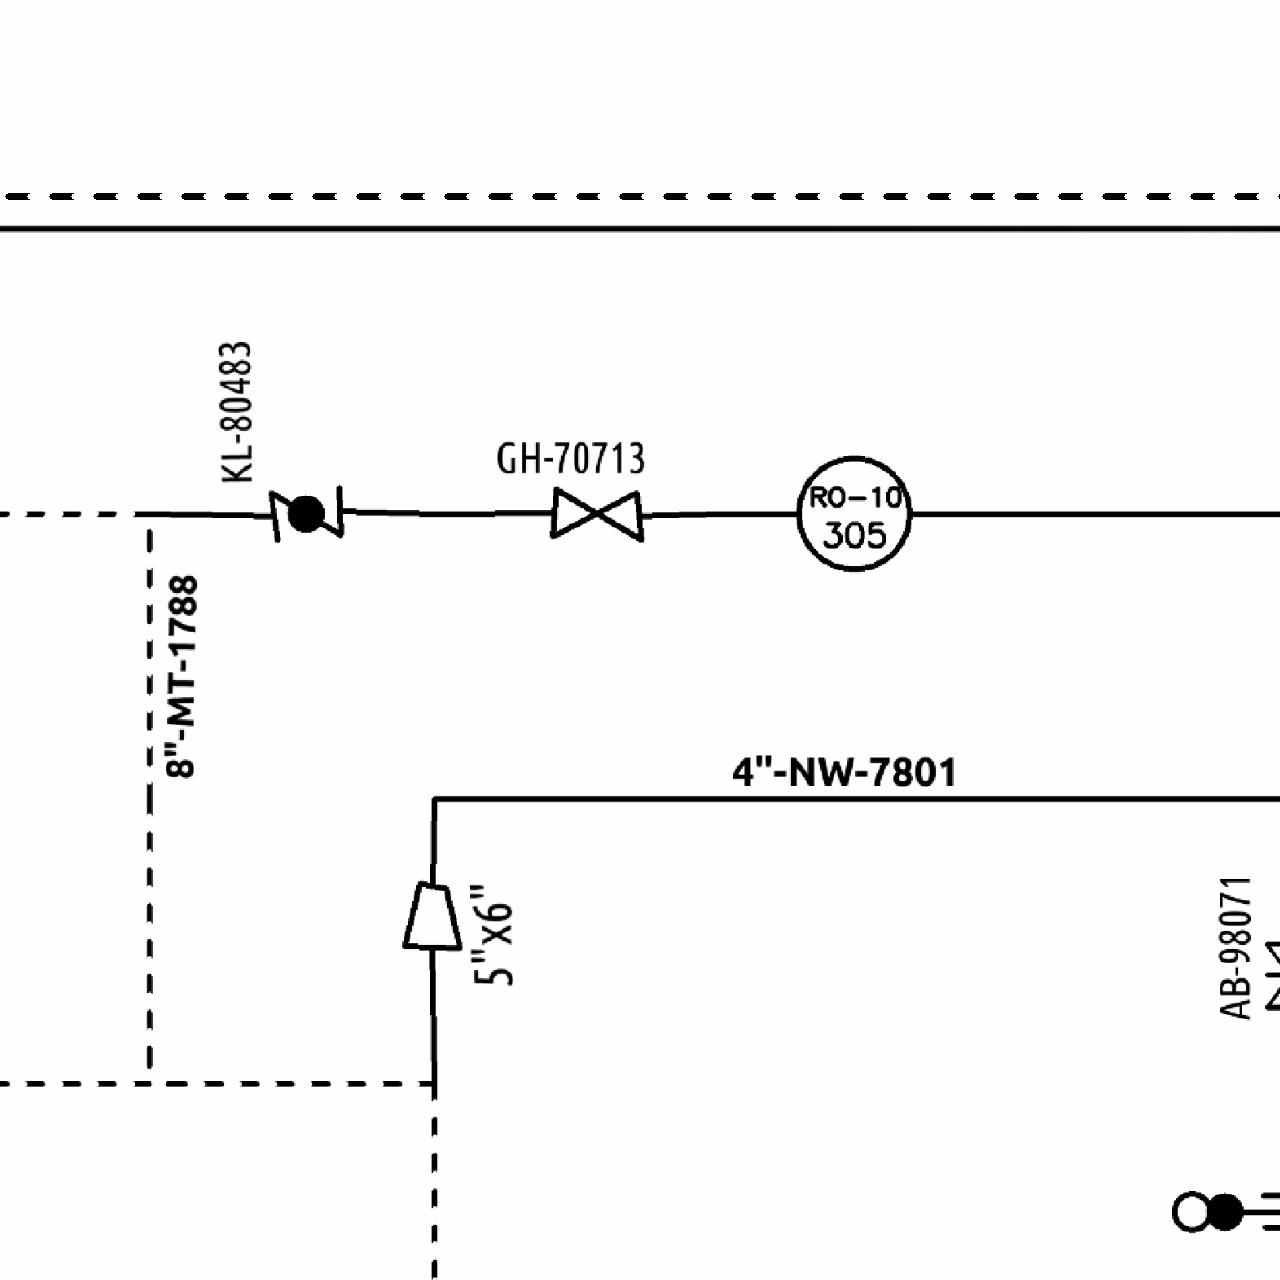Control-Panel: (789, 451, 917, 576)
